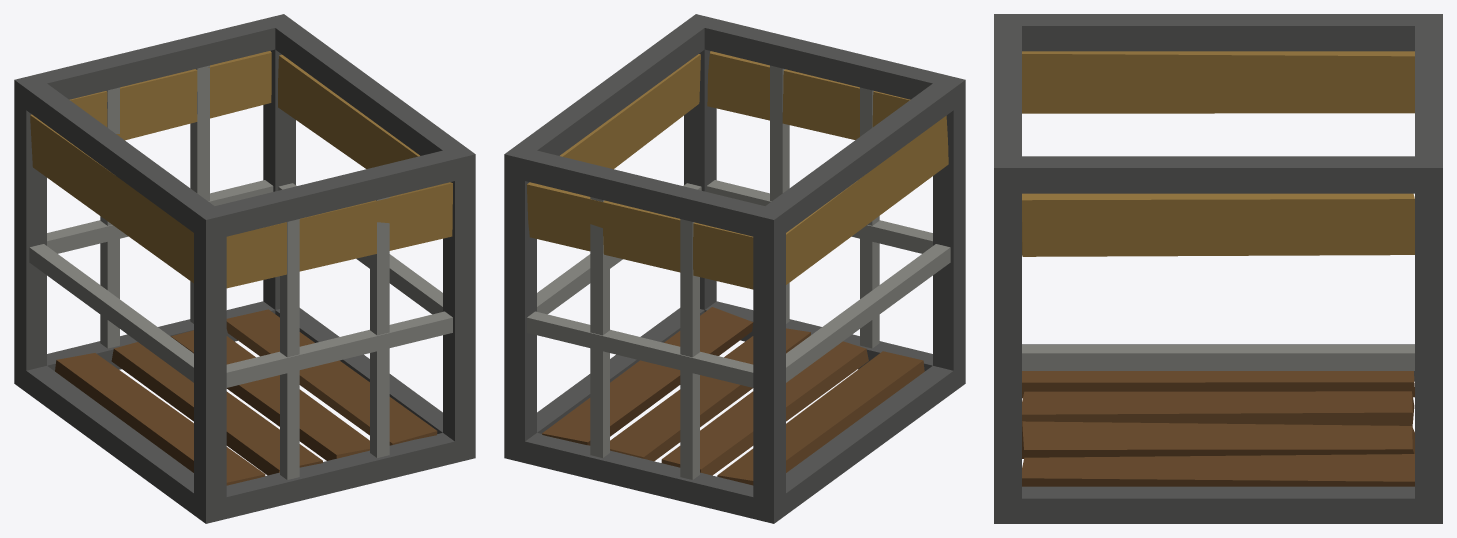
Rendered from cargo_rack.glb.
3 renders of one model, left to right at view 1: azimuth 30°, elevation 25°; view 2: azimuth 150°, elevation 25°; view 3: azimuth 270°, elevation 25°, orthographic. The views are drawn at different scales.
Visible parts, largest first — view 1: cargo_rack; view 2: cargo_rack; view 3: cargo_rack.
Part boxes in pixels (x1,y1,x2,y2): cargo_rack: [14, 14, 475, 523]; cargo_rack: [504, 14, 965, 523]; cargo_rack: [994, 14, 1442, 523].
Bounding box in the file's own units: 0.65 × 0.7 × 0.8.
